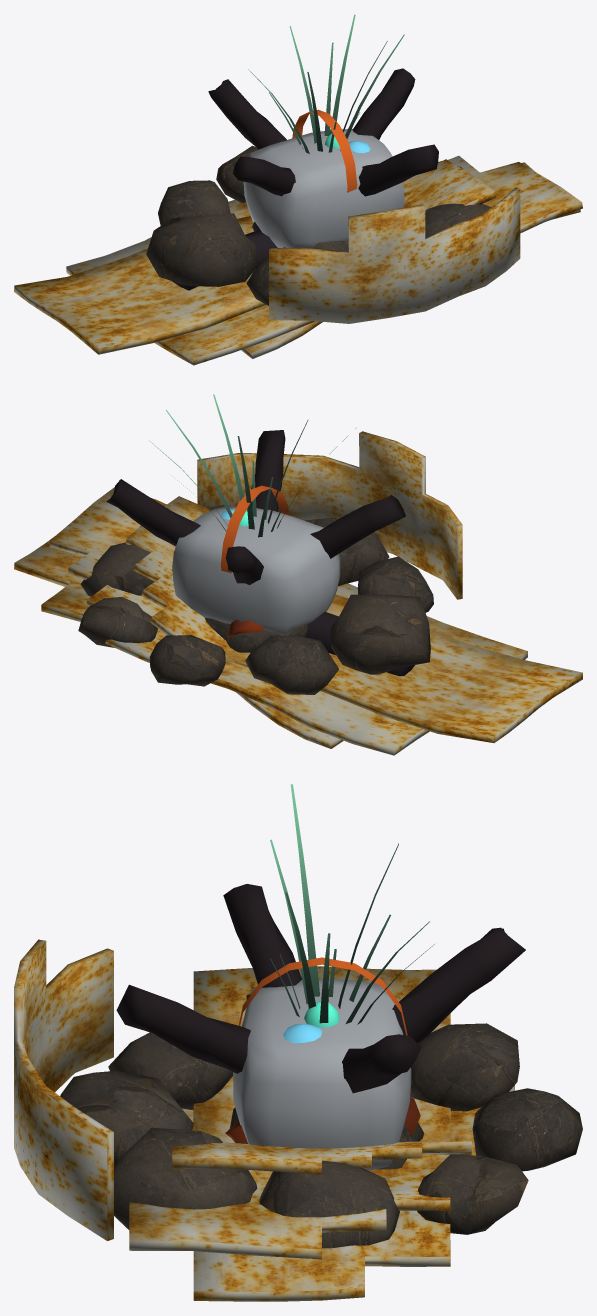
The model's file is props.glb.
The picture shows the model from 3 angles, top to bottom: view 1: azimuth 30°, elevation 25°; view 2: azimuth 150°, elevation 25°; view 3: azimuth 270°, elevation 25°; orthographic projection. The views are drawn at different scales.
Visible parts, largest first — view 1: Campfire_Scrap, Debris_3, Pack, Campfire_Stones, Debris_1, Campfire_Wood, Debris_2, Fiber, Stalkwood; view 2: Campfire_Stones, Debris_3, Campfire_Scrap, Pack, Debris_1, Campfire_Wood, Debris_2, Fiber, Stone, Stalkwood; view 3: Campfire_Stones, Pack, Campfire_Scrap, Debris_3, Campfire_Wood, Debris_1, Debris_2, Fiber.
Part boxes in pixels (x1=…): Campfire_Scrap: x1=269, y1=187, x2=520, y2=323; Debris_3: x1=14, y1=161, x2=580, y2=354; Pack: x1=243, y1=109, x2=404, y2=248; Campfire_Stones: x1=146, y1=145, x2=491, y2=305; Debris_1: x1=66, y1=155, x2=582, y2=365; Campfire_Wood: x1=208, y1=68, x2=438, y2=196; Debris_2: x1=241, y1=159, x2=496, y2=358; Fiber: x1=248, y1=14, x2=404, y2=153; Stalkwood: x1=172, y1=230, x2=277, y2=290; Campfire_Stones: x1=78, y1=505, x2=433, y2=694; Debris_3: x1=14, y1=536, x2=582, y2=742; Campfire_Scrap: x1=197, y1=431, x2=462, y2=599; Pack: x1=172, y1=485, x2=340, y2=635; Debris_1: x1=49, y1=487, x2=527, y2=755; Campfire_Wood: x1=106, y1=430, x2=405, y2=637; Debris_2: x1=125, y1=496, x2=343, y2=748; Fiber: x1=149, y1=394, x2=356, y2=537; Stone: x1=205, y1=617, x2=308, y2=652; Stalkwood: x1=305, y1=612, x2=414, y2=676; Campfire_Stones: x1=60, y1=976, x2=582, y2=1248; Pack: x1=233, y1=957, x2=411, y2=1170; Campfire_Scrap: x1=14, y1=939, x2=113, y2=1240; Debris_3: x1=193, y1=966, x2=450, y2=1301; Campfire_Wood: x1=116, y1=884, x2=525, y2=1143; Debris_1: x1=129, y1=1085, x2=514, y2=1259; Debris_2: x1=172, y1=1141, x2=471, y2=1174; Fiber: x1=270, y1=784, x2=434, y2=1024.
Size of the model in its own units: 1.98 by 0.9969 by 1.33.
Materials: 3 (2 with a texture image).
